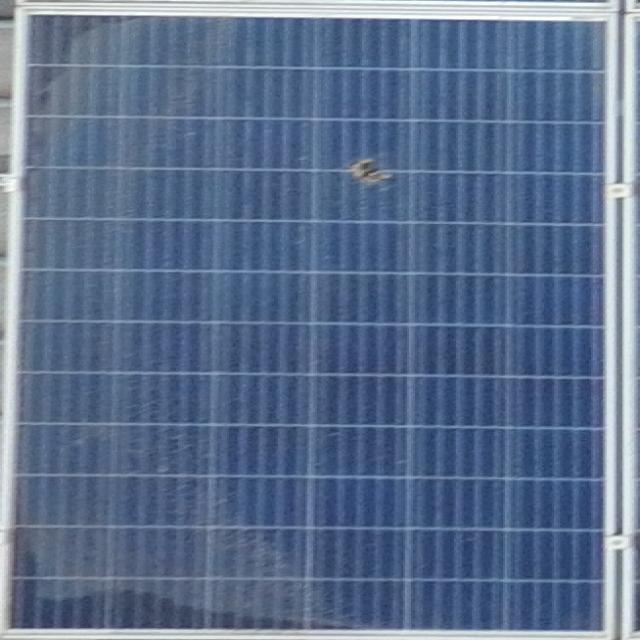Dust: (18, 15, 226, 635), (11, 410, 352, 640), (30, 5, 212, 212)
bird-droppings: (344, 151, 407, 190)
